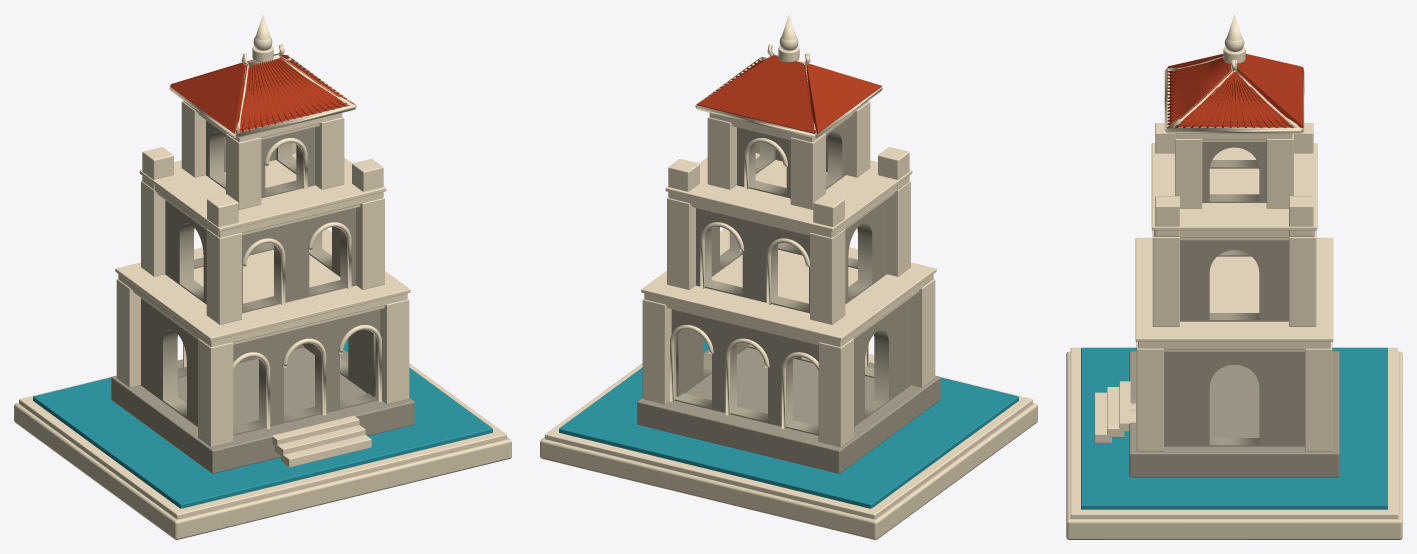
The model's file is ha-noi.glb.
3 renders of one model, left to right at view 1: azimuth 30°, elevation 25°; view 2: azimuth 150°, elevation 25°; view 3: azimuth 270°, elevation 25°, orthographic. The views are drawn at different scales.
Visible parts, largest first — view 1: LANDMARK_ha-noi.001; view 2: LANDMARK_ha-noi.001; view 3: LANDMARK_ha-noi.001.
Boxes of the visible parts, x1,y1,x2,y2 form: LANDMARK_ha-noi.001: (14, 15, 511, 539); LANDMARK_ha-noi.001: (540, 15, 1037, 539); LANDMARK_ha-noi.001: (1066, 14, 1402, 539).
Size of the model in its own units: 1.34 by 1.62 by 1.12.
